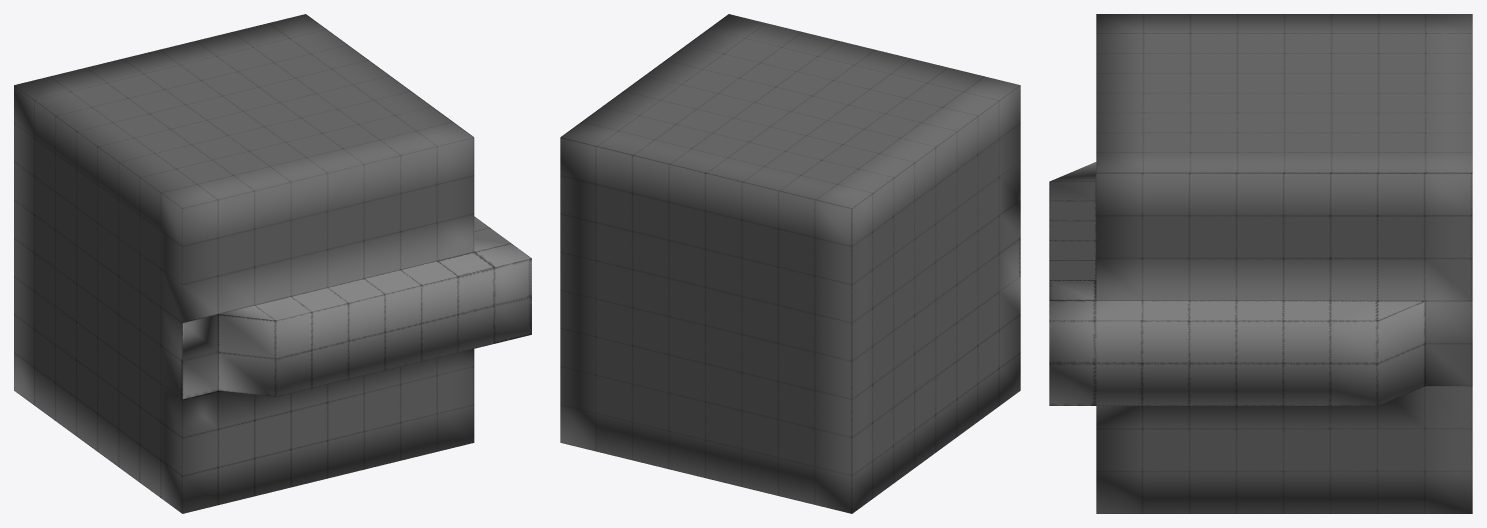
Rendered from corner.fbx.
3 views of the same model, side by side, from view 1: azimuth 30°, elevation 25°; view 2: azimuth 150°, elevation 25°; view 3: azimuth 270°, elevation 25° (orthographic). The views are drawn at different scales.
Visible parts, largest first — view 1: Cube; view 2: Cube; view 3: Cube.
Part boxes in pixels (<box>): Cube: <box>14,14,531,513</box>; Cube: <box>560,14,1020,513</box>; Cube: <box>1049,14,1472,513</box>.
Bounding box in the file's own units: 2.25 × 2 × 2.25.
1 material, 1 textured.
